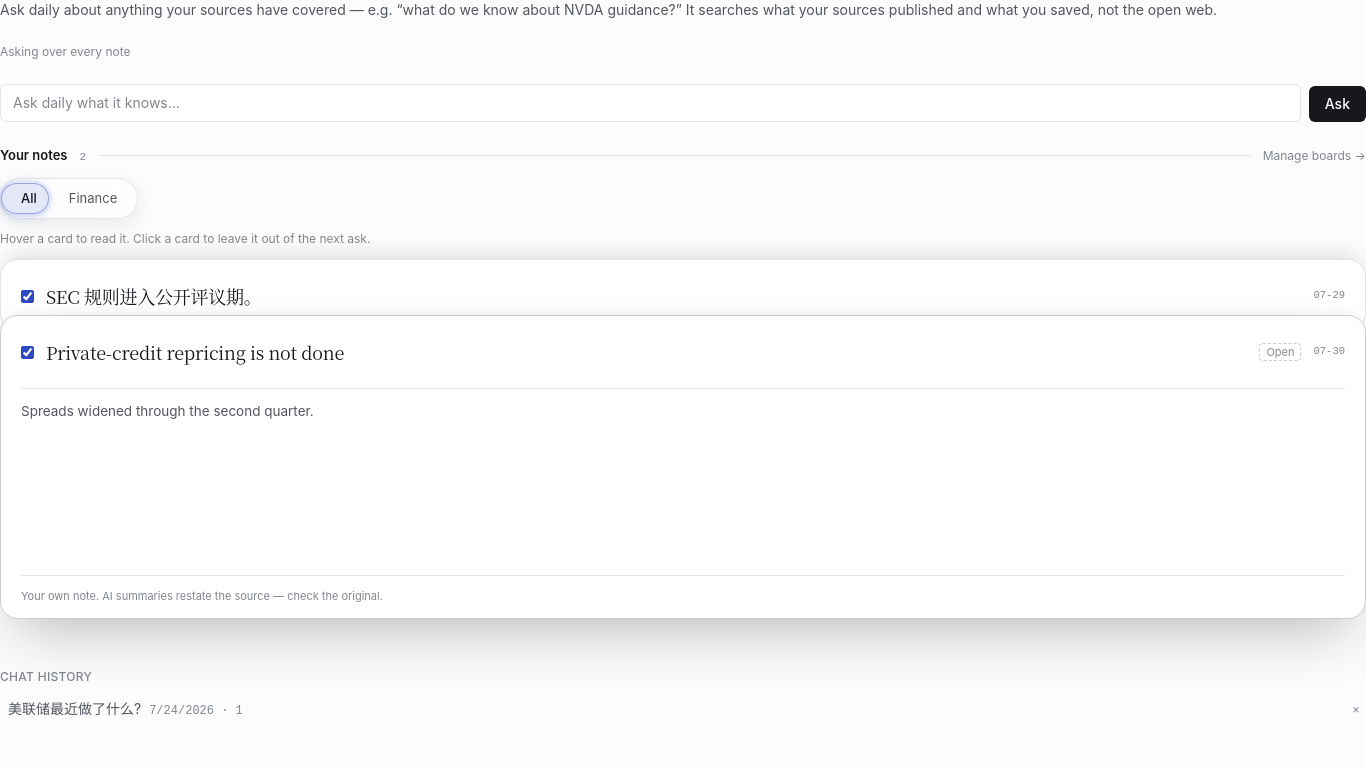
Test: KnowledgeView (persisted chats, 2026-07-24) › history lists past chats; clicking one reopens it
Expected: the heading "Chat history" is shown, [0, 669, 92, 684]
Click the button "美联储最近做了什么?7/24/2026 · 1": (75, 708) [0, 693, 1338, 725]
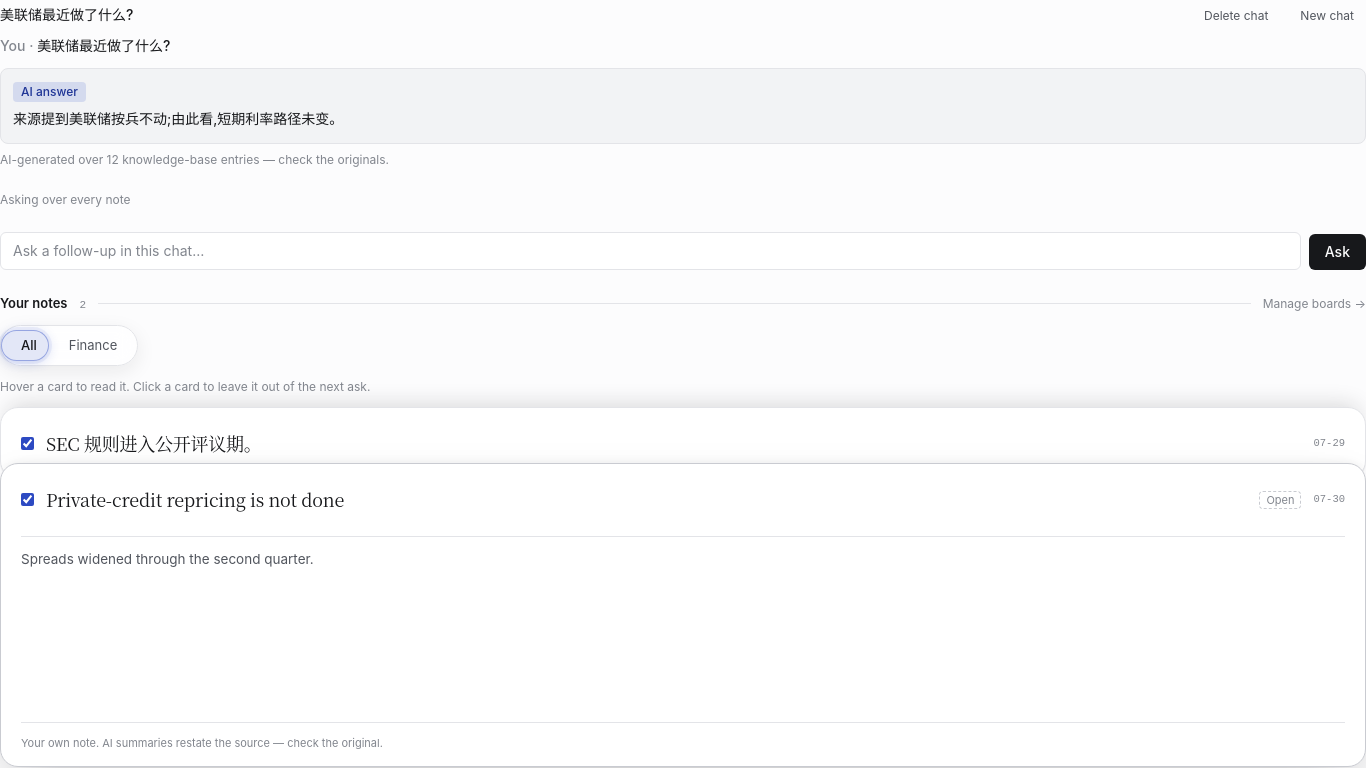
Expected: the text "来源提到美联储按兵不动;由此看,短期利率路径未变。" is shown, [13, 110, 343, 127]
